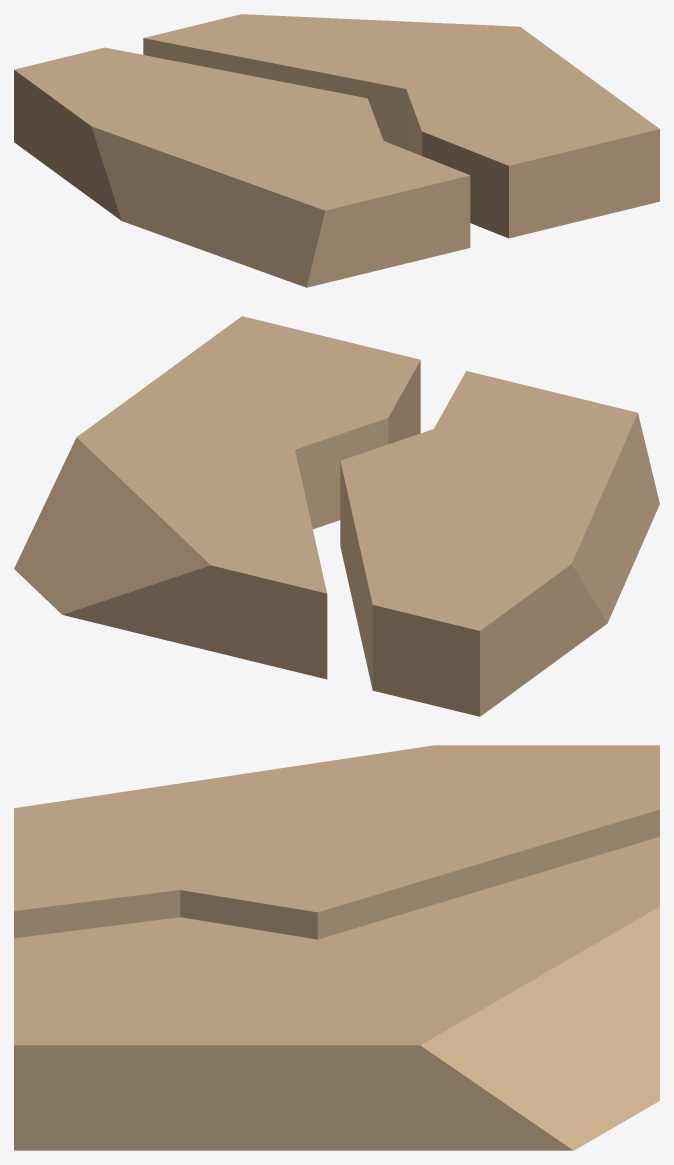
Rendered from Rock_Flat_crk_s_01.fbx.
3 views of the same model, one above another, from view 1: azimuth 30°, elevation 25°; view 2: azimuth 150°, elevation 25°; view 3: azimuth 270°, elevation 25° (orthographic). The views are drawn at different scales.
Parts seen in each view (by area): view 1: Rock_Flat_crk_s_01; view 2: Rock_Flat_crk_s_01; view 3: Rock_Flat_crk_s_01.
Boxes of the visible parts, x1,y1,x2,y2 form: Rock_Flat_crk_s_01: (14, 14, 659, 287); Rock_Flat_crk_s_01: (14, 316, 659, 716); Rock_Flat_crk_s_01: (14, 745, 659, 1150).
Size of the model in its own units: 55.43 by 9.07 by 50.4.
